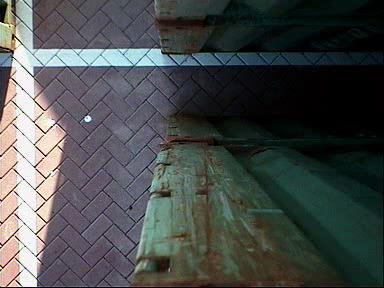groundmarker_2: (82, 178, 155, 225)
